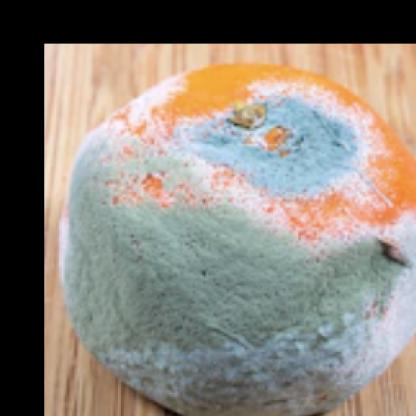rotten: (63, 62, 416, 404)
